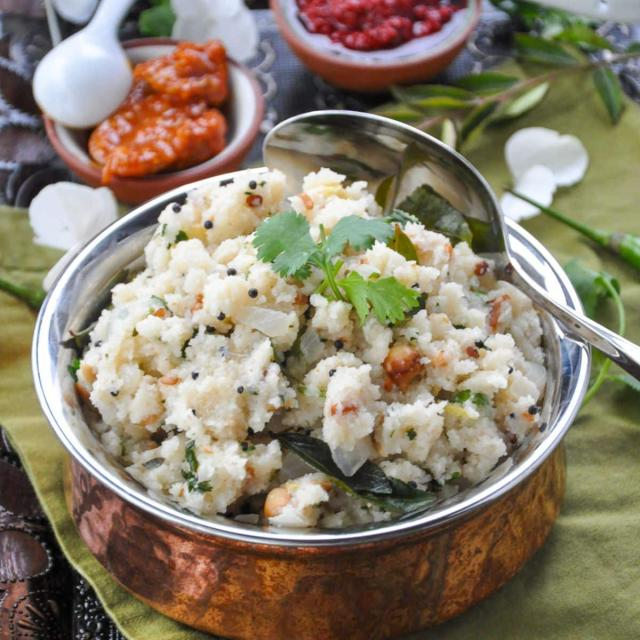UPMA: (67, 166, 547, 514)
